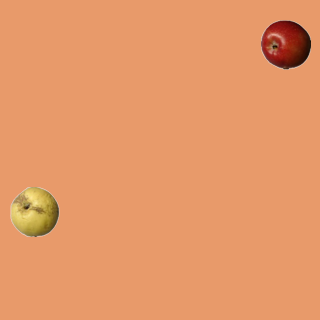Apple Braeburn: (260, 19, 310, 69)
Apple Golden 1: (9, 186, 59, 236)
